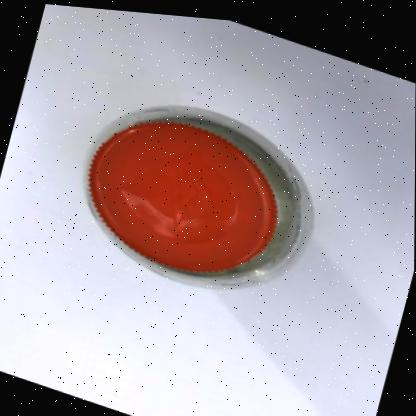Plastic: (88, 102, 314, 284)
